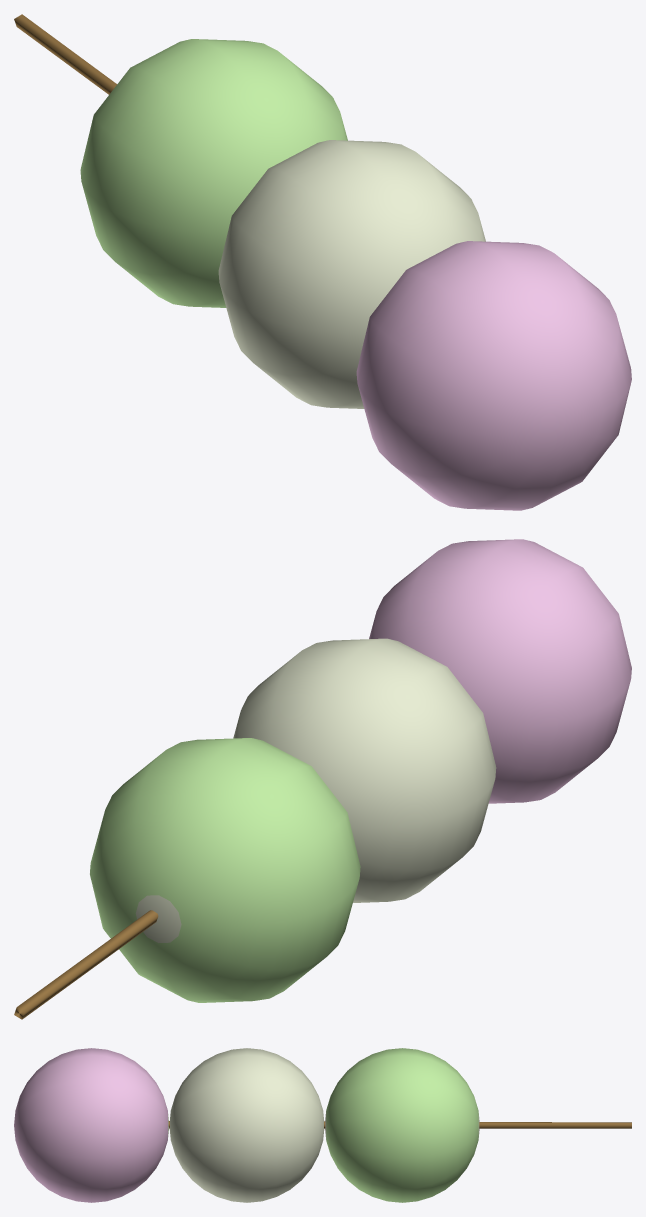
File: dango.fbx
The picture shows the model from 3 angles, top to bottom: view 1: azimuth 30°, elevation 25°; view 2: azimuth 150°, elevation 25°; view 3: azimuth 270°, elevation 25°; orthographic projection. The views are drawn at different scales.
Parts seen in each view (by area): view 1: 球.002, 円柱.001; view 2: 球.002, 円柱.001; view 3: 球.002, 円柱.001.
Boxes of the visible parts, x1,y1,x2,y2 form: 球.002: (80,39,631,510); 円柱.001: (14,14,116,94); 球.002: (90,539,631,1002); 円柱.001: (14,910,158,1019); 球.002: (14,1048,479,1202); 円柱.001: (168,1121,631,1128).
Bounding box in the file's own units: 36.33 × 36.33 × 145.
